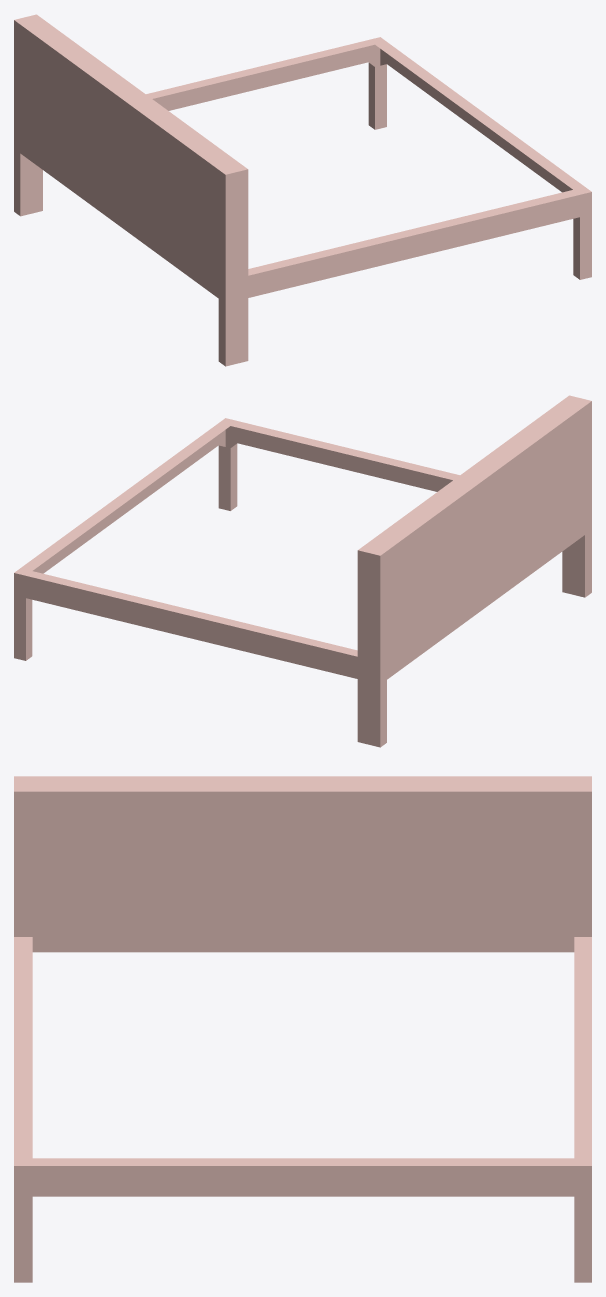
The model's file is Bed.fbx.
3 views of the same model, one above another, from view 1: azimuth 30°, elevation 25°; view 2: azimuth 150°, elevation 25°; view 3: azimuth 270°, elevation 25° (orthographic). The views are drawn at different scales.
Visible parts, largest first — view 1: Bed; view 2: Bed; view 3: Bed.
Part boxes in pixels (<box>): Bed: <box>14,14,591,366</box>; Bed: <box>14,395,591,747</box>; Bed: <box>14,776,591,1282</box>.
Bounding box in the file's own units: 400 × 200 × 400.
